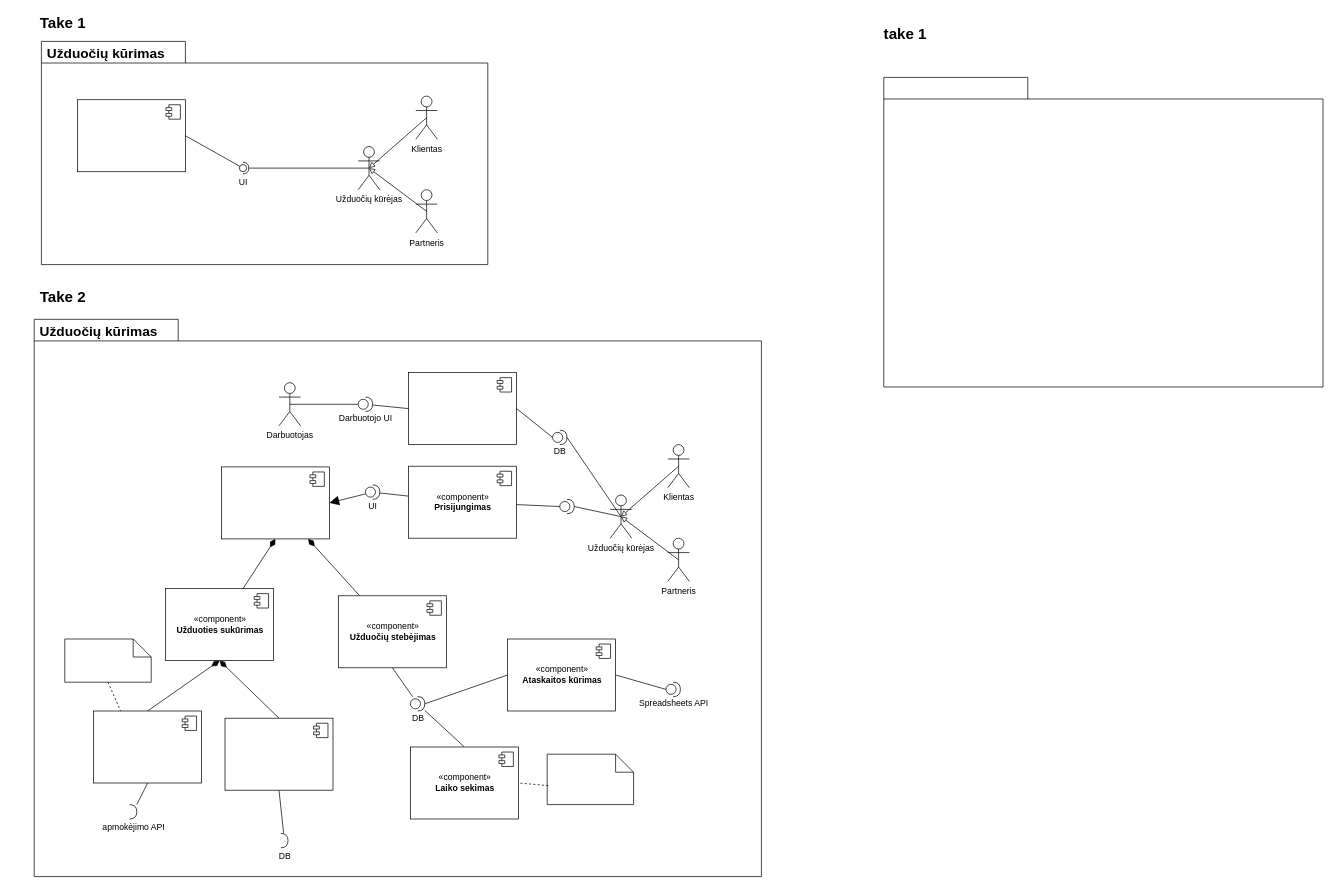
Image size: 1336x889. Some labels were removed from this diagram. The shapes that lost their labels are listed below. From the top down, each one's centre as x and y in pixels, then its label:
(131,135): «component» WEB klientas sukurti/stebėti užduočiai
(1103,232): Žaidimas
(462,408): «component» Kūrėjo registracija
(275,502): «component» WEB klientas
(566,506): Autentikacija
(107,660): reikalaujama tik iš klientų
(147,746): «component» Apmokėjimas
(278,753): «component» Duomenų įvedimas
(590,779): Klientų komponentas
